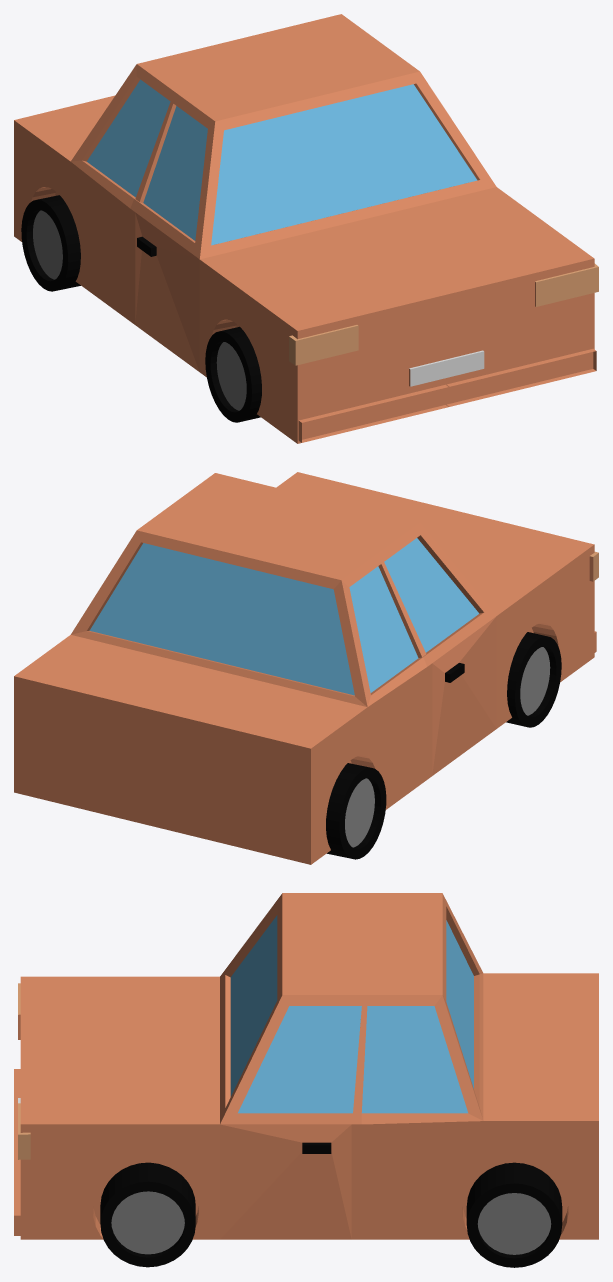
File: car1.glb
3 renders of one model, top to bottom at view 1: azimuth 30°, elevation 25°; view 2: azimuth 150°, elevation 25°; view 3: azimuth 270°, elevation 25°, orthographic. The views are drawn at different scales.
Parts seen in each view (by area): view 1: Cube; view 2: Cube; view 3: Cube.
Boxes of the visible parts, x1,y1,x2,y2 form: Cube: [14, 14, 598, 443]; Cube: [14, 472, 598, 864]; Cube: [14, 893, 598, 1267].
Bounding box in the file's own units: 3.07 × 2.17 × 4.71.
